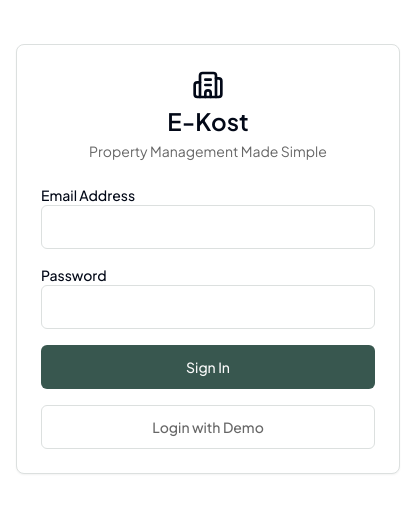
it: LoginForm › bad cases › shows validation error when email is empty
This screenshot has width=417, height=519.
Click the button "Sign In": click(208, 367) top-left (41, 345), bottom-right (375, 389)
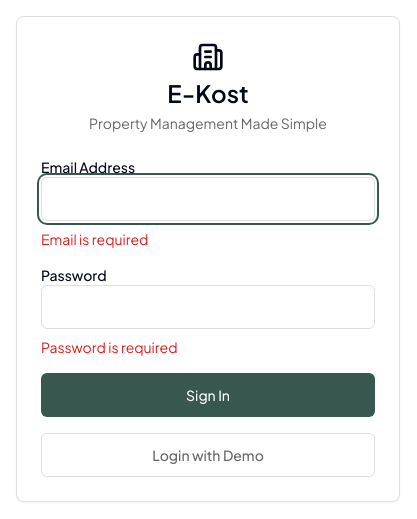
Now the text "Email is required" is shown, box top-left (41, 230), bottom-right (148, 248)
